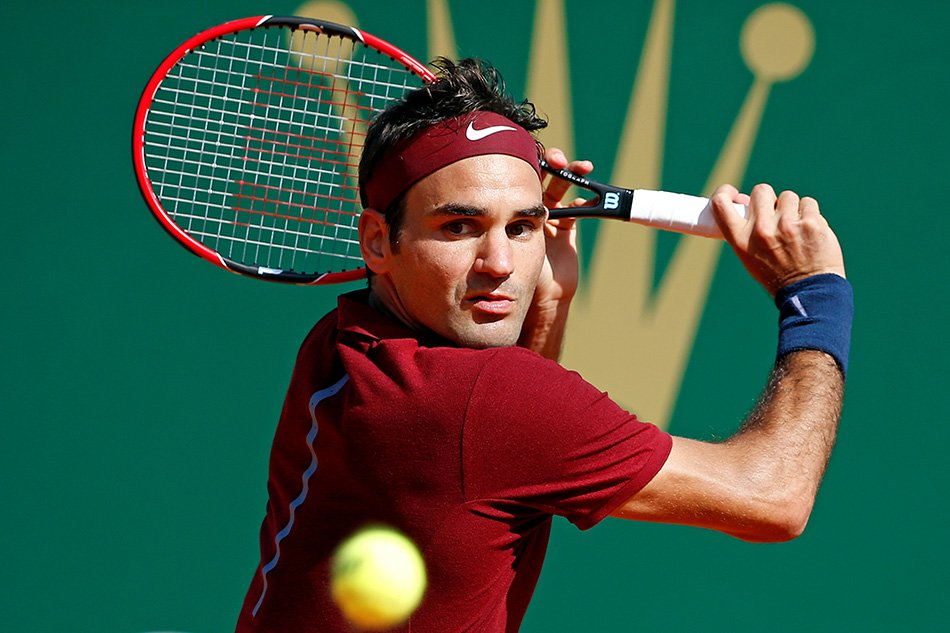tennis ball: (326, 525, 429, 631)
tennis player: (238, 75, 856, 633)
